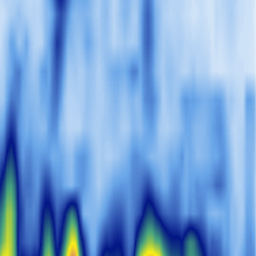defect: (1, 102, 21, 256), (132, 184, 170, 256), (34, 171, 55, 256), (48, 1, 68, 90), (60, 193, 87, 256), (97, 206, 130, 256), (180, 222, 205, 256), (142, 1, 152, 53)
